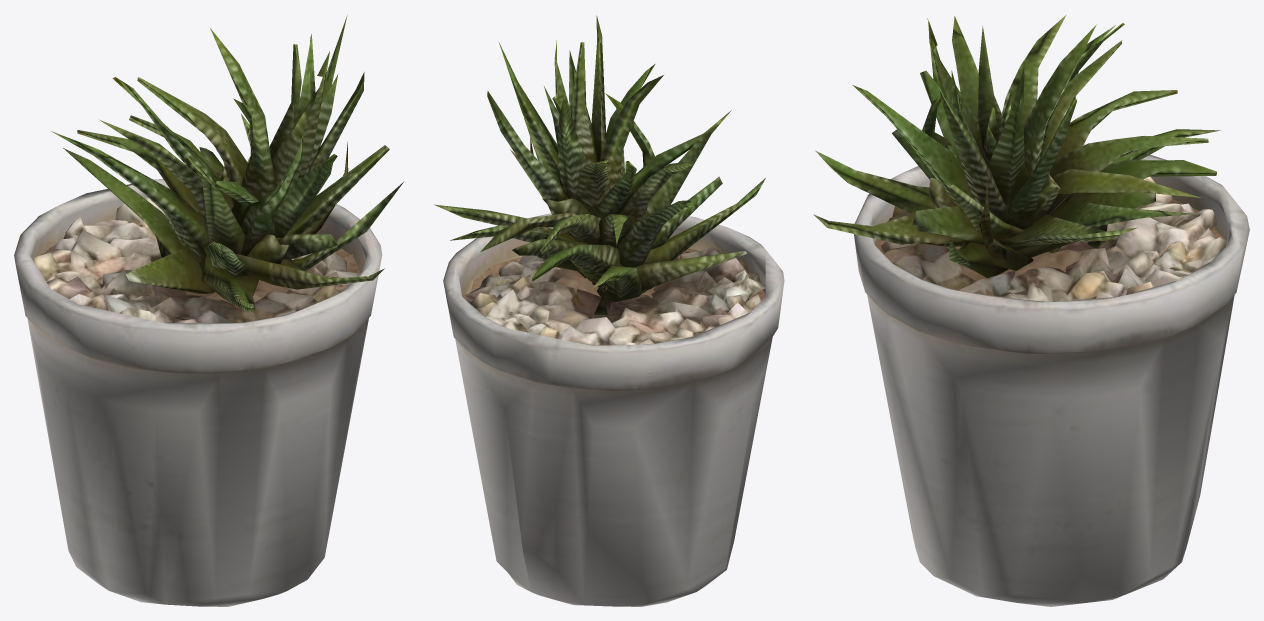
The model's file is plant_small.glb.
3 renders of one model, left to right at view 1: azimuth 30°, elevation 25°; view 2: azimuth 150°, elevation 25°; view 3: azimuth 270°, elevation 25°, orthographic. The views are drawn at different scales.
Parts seen in each view (by area): view 1: plant_small; view 2: plant_small; view 3: plant_small.
Boxes of the visible parts, bbox=[...] form: plant_small: bbox=[14, 15, 403, 606]; plant_small: bbox=[434, 15, 784, 606]; plant_small: bbox=[813, 14, 1249, 606].
Size of the model in its own units: 0.1672 by 0.2671 by 0.1843.
1 material, 1 textured.
